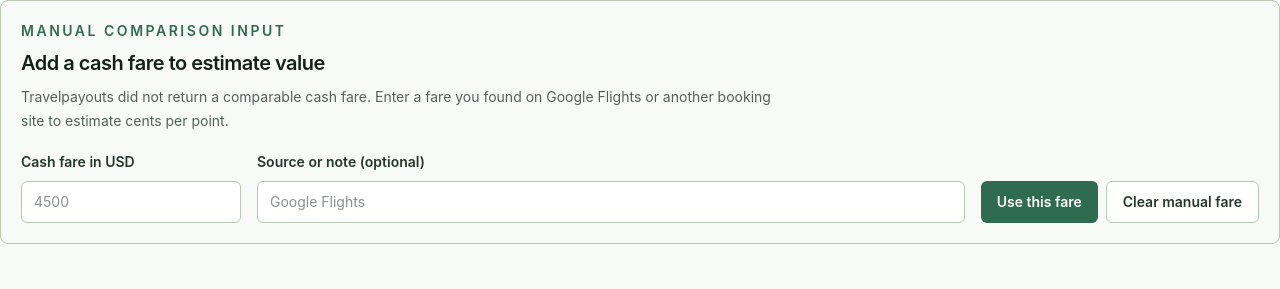
Scenario: ManualCashFareInput › rejects invalid fare 0
Type "0" into the field labelled "Cash fare in USD".
click(131, 202); type("0")  # box top-left (21, 181), bottom-right (241, 223)
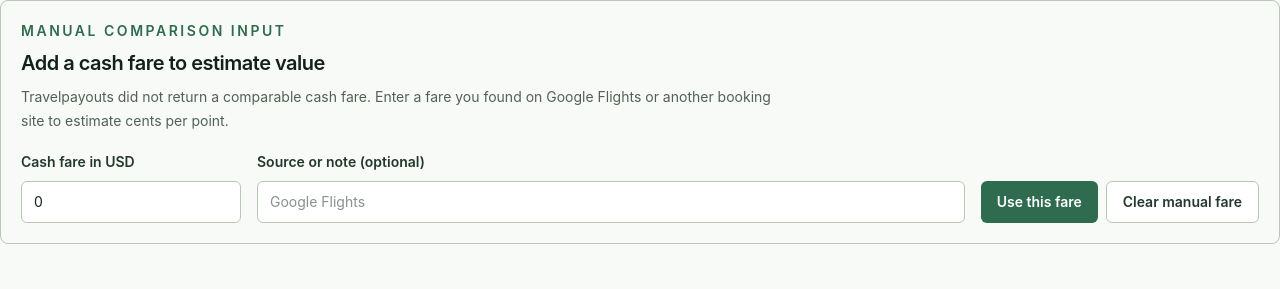
Click the button "Use this fare".
click(1039, 202)  # box top-left (981, 181), bottom-right (1098, 223)
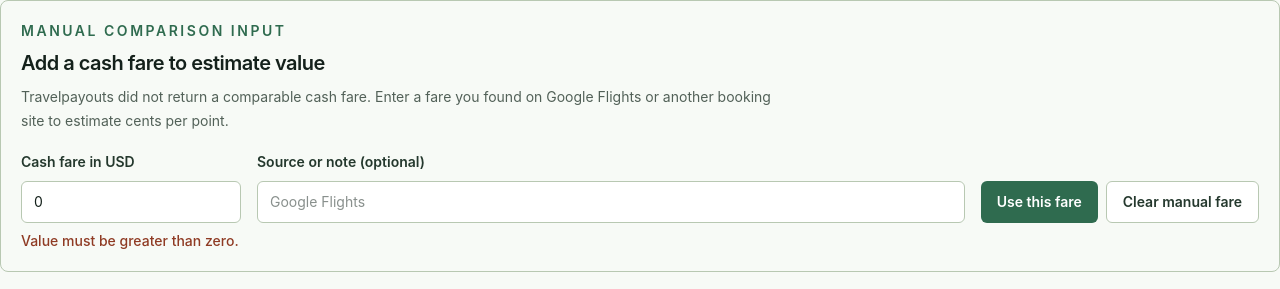
Now the message "Value must be greater than zero." is shown, box top-left (21, 232), bottom-right (239, 249)
